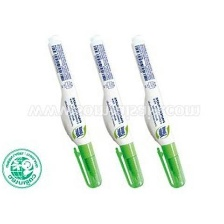correction_fluid: (44, 31, 104, 190), (86, 33, 147, 189), (129, 33, 188, 190)
